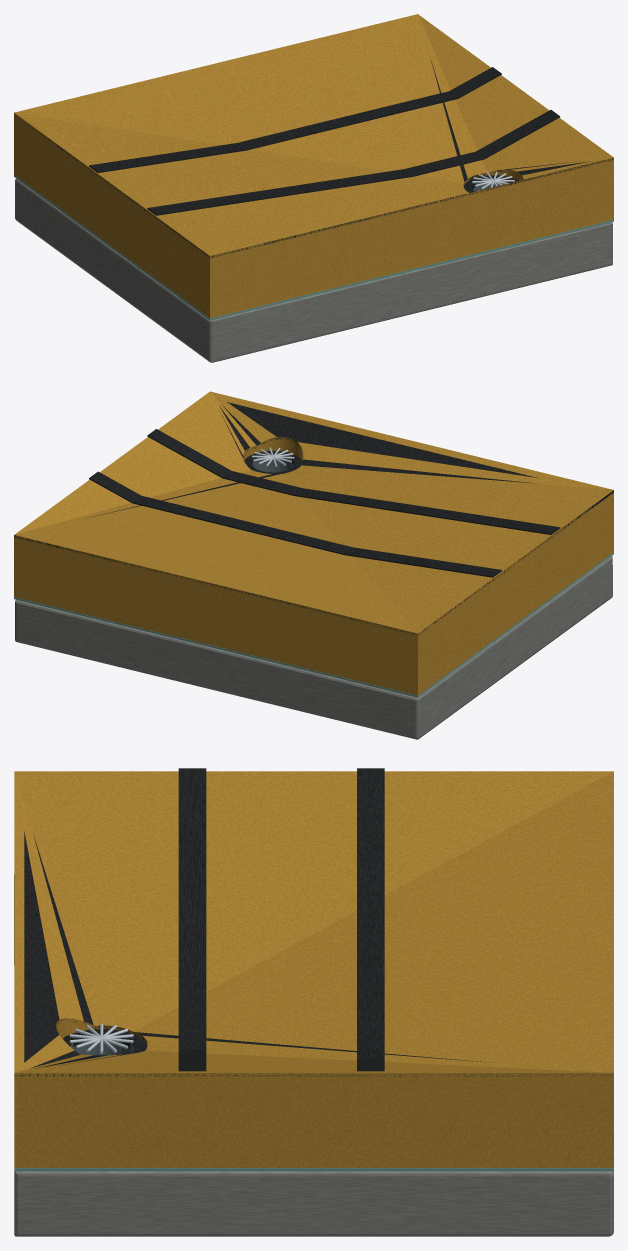
File: modell.glb
3 renders of one model, top to bottom at view 1: azimuth 30°, elevation 25°; view 2: azimuth 150°, elevation 25°; view 3: azimuth 270°, elevation 25°, orthographic. The views are drawn at different scales.
Parts seen in each view (by area): view 1: f02-gefaelle_daemmung, f02-untergrund_tragwerk, f02-naht_deckung, f02-abdichtung_deckung, f02-luftdichtheit_luftdichtheit; view 2: f02-gefaelle_daemmung, f02-untergrund_tragwerk, f02-naht_deckung, f02-abdichtung_deckung, f02-luftdichtheit_luftdichtheit; view 3: f02-gefaelle_daemmung, f02-untergrund_tragwerk, f02-naht_deckung, f02-abdichtung_deckung, f02-luftdichtheit_luftdichtheit, f02-ablauf_.002.
Part boxes in pixels (left/top/right/bottom): f02-gefaelle_daemmung: left=14, top=14, right=613, bottom=318; f02-untergrund_tragwerk: left=15, top=178, right=612, bottom=362; f02-naht_deckung: left=89, top=67, right=559, bottom=215; f02-abdichtung_deckung: left=27, top=59, right=613, bottom=258; f02-luftdichtheit_luftdichtheit: left=14, top=175, right=613, bottom=320; f02-gefaelle_daemmung: left=14, top=391, right=613, bottom=695; f02-untergrund_tragwerk: left=15, top=556, right=612, bottom=739; f02-naht_deckung: left=89, top=429, right=560, bottom=577; f02-abdichtung_deckung: left=14, top=402, right=613, bottom=635; f02-luftdichtheit_luftdichtheit: left=14, top=553, right=613, bottom=697; f02-gefaelle_daemmung: left=14, top=771, right=613, bottom=1168; f02-untergrund_tragwerk: left=14, top=874, right=613, bottom=1236; f02-naht_deckung: left=178, top=768, right=384, bottom=1071; f02-abdichtung_deckung: left=15, top=832, right=611, bottom=1076; f02-luftdichtheit_luftdichtheit: left=14, top=1168, right=613, bottom=1170; f02-ablauf_.002: left=69, top=1023, right=133, bottom=1053.
Bounding box in the file's own units: 2.2 × 0.571 × 1.85.
Materials: 6 (3 with a texture image).
